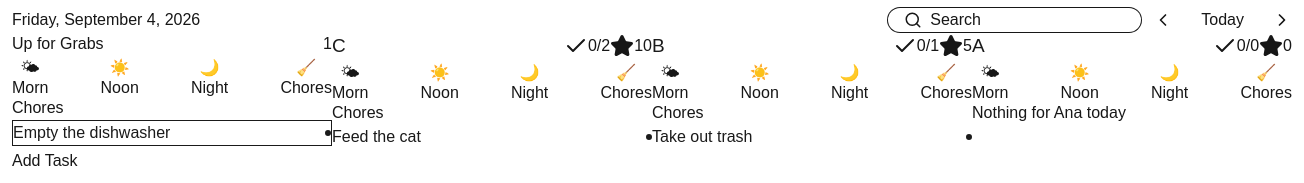
Test: the star pill (T027, FR-407) › reads yesterday's stars when yesterday is on the board — never the balance (FR-407)
The image size is (1304, 183).
Click the button named "Previous day" at (1163, 20), box [1153,10,1173,30]
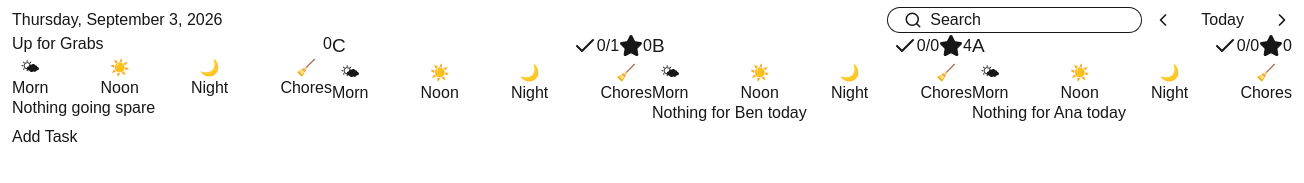
Expected: the element named "0 stars earned" is shown, [619,34,652,58]
Expected: the element named "4 stars earned" is shown, [939,34,972,58]
